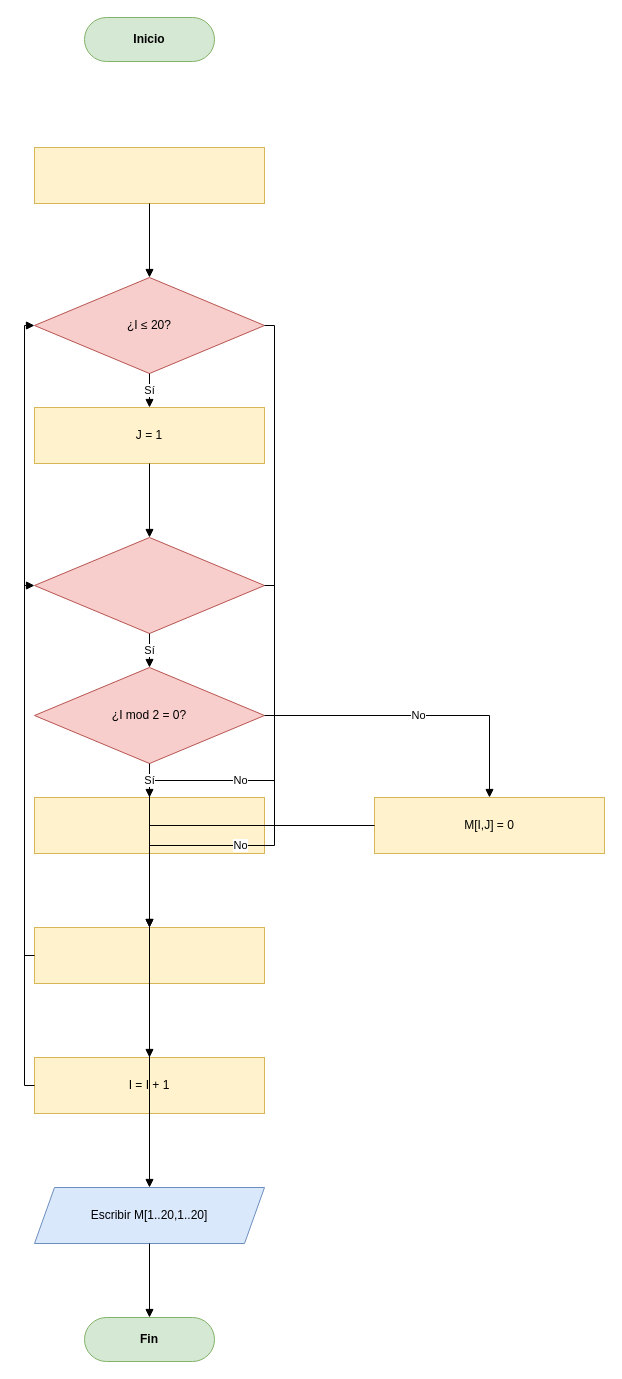
This 622x1379 diagram has some shape labels left out. Each missing label, with the box of its shape:
I = 1: (34, 146, 264, 204)
J = J + 1: (34, 926, 264, 984)
M[I,J] = 1: (34, 796, 264, 854)
¿J ≤ 20?: (34, 536, 264, 634)
